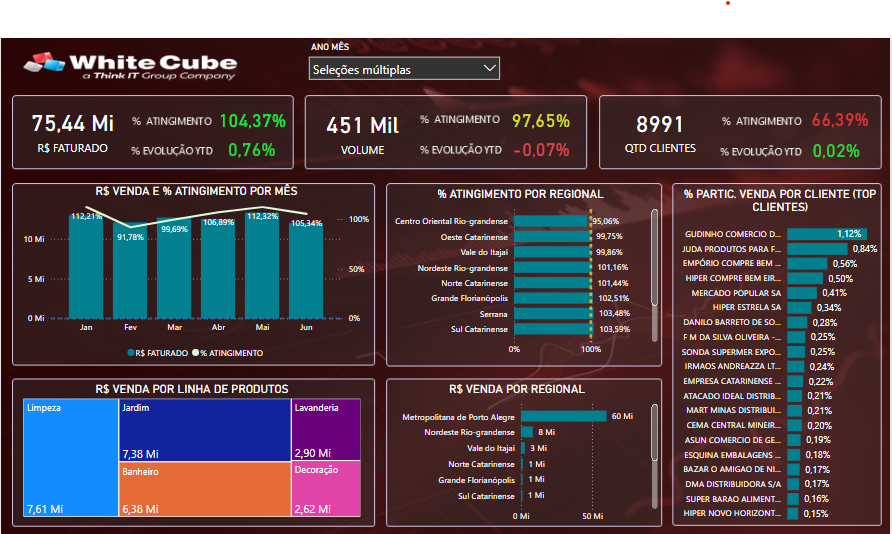

This screenshot's page, from the dashboard's own definition file:
{"tool":"powerbi","page":{"name":"Relatório de Vendas","canvas":[1280,720],"ordinal":0},"visuals":[{"type":"card","fields":{"Values":["FATO_VENDA.Faturado R$"]},"box":[0,60.5,205.9,149.8],"z":0},{"type":"card","fields":{"Values":["FATO_META.Atingimento Meta Faturado"]},"box":[250.6,83.5,223.2,77.8],"z":1000},{"type":"slicer","fields":{"Values":["DIM_CALENDARIO.Mes Ano"]},"box":[433.4,4.3,295.2,72],"z":2000},{"type":"card","fields":{"Values":["FATO_VENDA.Evolucao YTD %"]},"box":[275,126.7,172.8,73.4],"z":3000},{"type":"card","fields":{"Values":["FATO_VENDA.VOLUME"]},"box":[413.3,76.3,214.6,123.8],"z":4000},{"type":"card","fields":{"Values":["FATO_META.% Atingimento_Volume"]},"box":[715.7,83.5,123.8,76.3],"z":5000},{"type":"card","fields":{"Values":["FATO_META.% Atingimento_Clientes"]},"box":[1136.2,76.3,144,89.3],"z":6000},{"type":"treemap","title":"R$ VENDA POR LINHA DE PRODUTOS","fields":{"Group":["DIM_PRODUTO.CATEGORIA"],"Values":["FATO_VENDA.Faturado R$"]},"box":[27.4,499.7,495.4,198.7],"z":7000},{"type":"barChart","title":"% PARTIC. VENDA POR CLIENTE (TOP CLIENTES)","fields":{"Category":["DIM_CLIENTE.RAZAO_SOCIAL"],"Y":["DIM_CLIENTE.% Participação Faturado por Cliente"]},"box":[963.4,218.9,316.8,492.5],"z":8000},{"type":"clusteredBarChart","title":"% ATINGIMENTO POR REGIONAL","fields":{"Category":["DIM_REGIONAL.REGIONAL"],"Y":["FATO_META.% Atingimento Meta Faturado"]},"box":[545.8,218.9,404.6,252],"z":9000},{"type":"card","fields":{"Values":["FATO_VENDA.% Evolucao YTD"]},"box":[692.6,125.3,169.9,77.8],"z":10000},{"type":"card","fields":{"Values":["FATO_VENDA.QTD CLIENTES"]},"box":[862.6,76.3,174.2,119.5],"z":11000},{"type":"card","fields":{"Values":["FATO_VENDA.% Evolucao YTD CLIENTES"]},"box":[1126.1,126.7,154.1,76.3],"z":12000},{"type":"textbox","box":[47.5,182.9,315.4,40.3],"z":13000},{"type":"lineClusteredColumnComboChart","title":"R$ VENDA E % ATINGIMENTO POR MÊS","fields":{"Category":["DIM_CALENDARIO.Abrev Mês"],"Y":["FATO_VENDA.Faturado R$"],"Y2":["FATO_META.% Atingimento Meta Faturado"]},"box":[27.4,214.6,508.3,260.6],"z":14000},{"type":"clusteredBarChart","title":"R$ VENDA POR REGIONAL","fields":{"Category":["DIM_REGIONAL.REGIONAL"],"Y":["FATO_VENDA.Faturado R$"]},"box":[535.7,499.7,414.7,211.7],"z":15000}]}

Visuals, with their boxes in screenshot pixels (x1, y1, x2, y2):
card - FATO_VENDA.Faturado R$: 7:79:148:182
card - FATO_META.Atingimento Meta Faturado: 179:95:333:148
slicer - DIM_CALENDARIO.Mes Ano: 305:40:508:90
card - FATO_VENDA.Evolucao YTD %: 196:124:315:175
card - FATO_VENDA.VOLUME: 291:90:438:175
card - FATO_META.% Atingimento_Volume: 499:95:584:147
card - FATO_META.% Atingimento_Clientes: 788:90:887:151
"R$ VENDA POR LINHA DE PRODUTOS" treemap: 26:381:366:517
"% PARTIC. VENDA POR CLIENTE (TOP CLIENTES)" barChart: 669:188:887:526
"% ATINGIMENTO POR REGIONAL" clusteredBarChart: 382:188:660:361
card - FATO_VENDA.% Evolucao YTD: 483:123:600:177
card - FATO_VENDA.QTD CLIENTES: 600:90:720:172
card - FATO_VENDA.% Evolucao YTD CLIENTES: 781:124:887:177
textbox: 40:163:256:191
"R$ VENDA E % ATINGIMENTO POR MÊS" lineClusteredColumnComboChart: 26:185:375:364
"R$ VENDA POR REGIONAL" clusteredBarChart: 375:381:660:526
